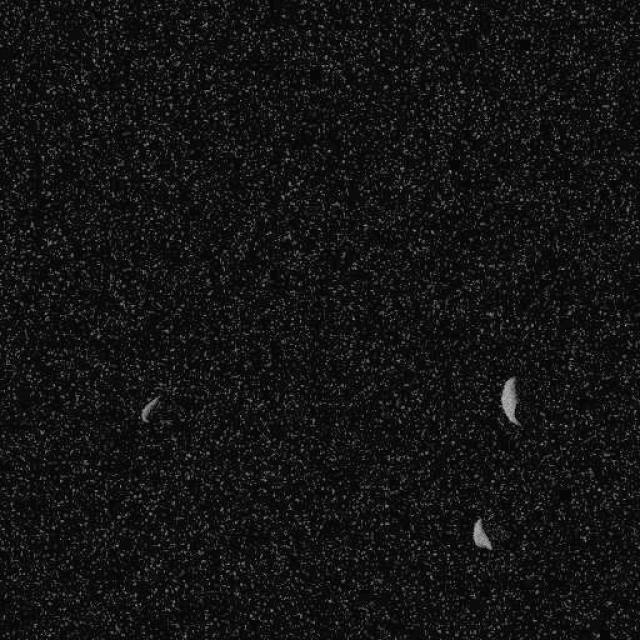D2: (499, 375, 521, 426), (470, 516, 492, 550), (139, 394, 161, 424)
